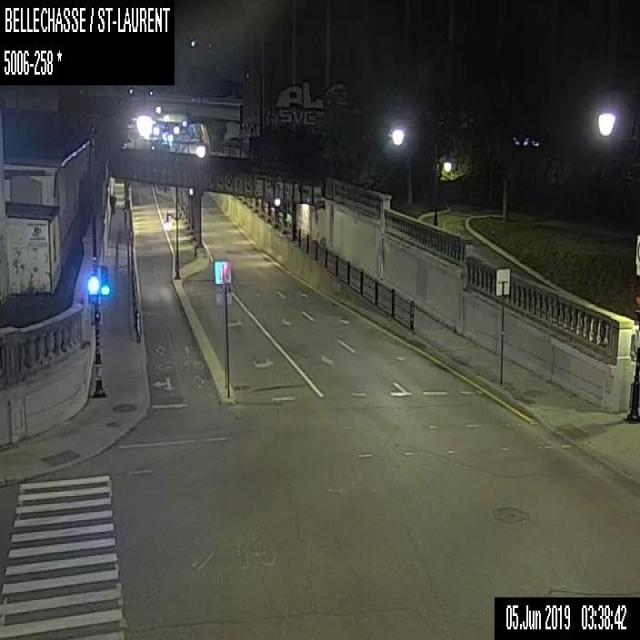pedestrian: (109, 191, 116, 212)
